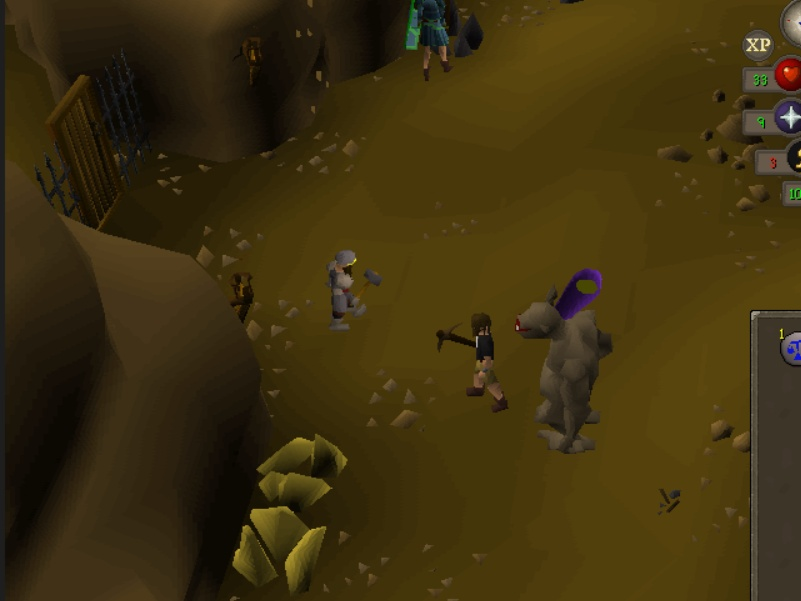gold: (232, 506, 338, 595), (252, 427, 359, 508)
